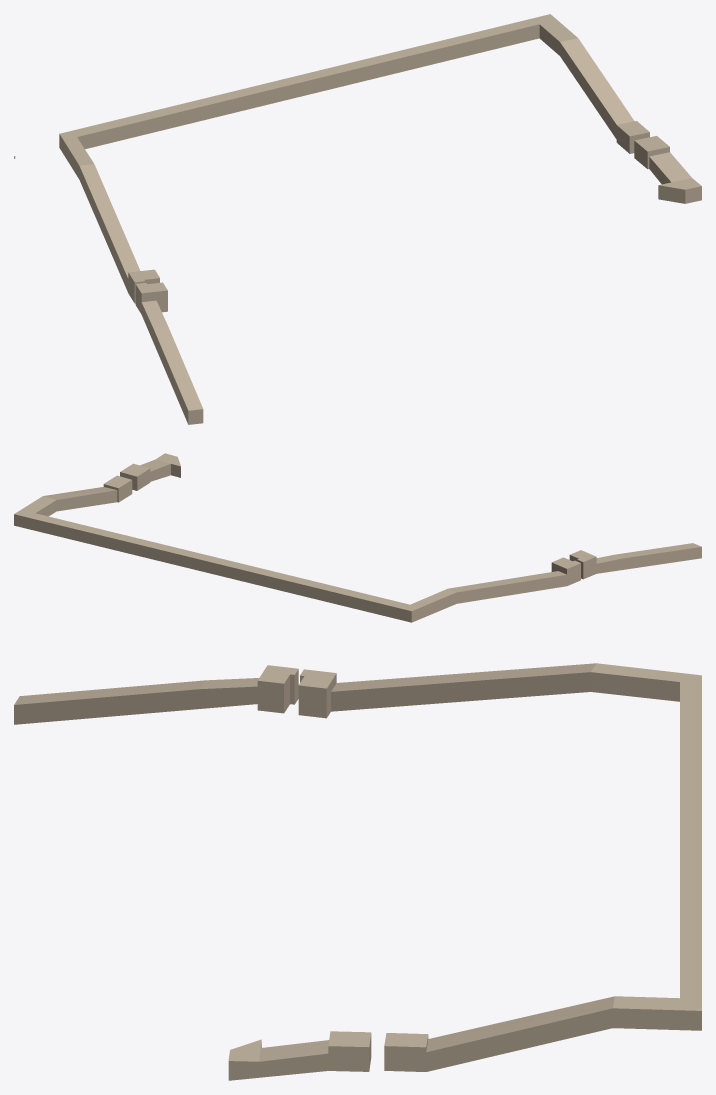
The model's file is Bubastieion.glb.
3 renders of one model, top to bottom at view 1: azimuth 30°, elevation 25°; view 2: azimuth 150°, elevation 25°; view 3: azimuth 270°, elevation 25°, orthographic. The views are drawn at different scales.
Visible parts, largest first — view 1: Mesh1 Model, Mesh3 Model, Mesh2 Model; view 2: Mesh1 Model, Mesh3 Model, Mesh2 Model; view 3: Mesh1 Model, Mesh3 Model, Mesh2 Model.
Boxes of the visible parts, x1,y1,x2,y2 form: Mesh1 Model: [59, 14, 649, 303]; Mesh3 Model: [135, 282, 203, 424]; Mesh2 Model: [634, 136, 701, 203]; Mesh1 Model: [14, 475, 580, 622]; Mesh3 Model: [569, 543, 701, 579]; Mesh2 Model: [120, 453, 180, 490]; Mesh1 Model: [298, 663, 701, 1071]; Mesh3 Model: [14, 665, 298, 724]; Mesh2 Model: [228, 1031, 371, 1080].
Bounding box in the file's own units: 358 × 48 × 252.
